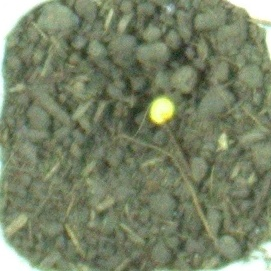chilli seed: (147, 96, 174, 125)
